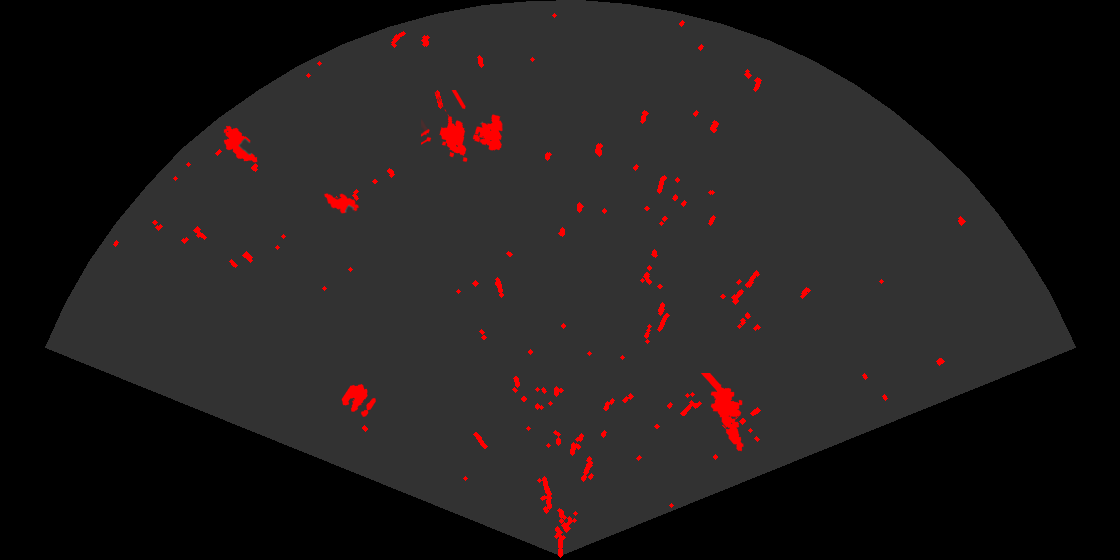AUV: (222, 124, 259, 164), (322, 191, 361, 215)
ball: (340, 382, 378, 419)
cage: (421, 90, 505, 163)
frogman: (699, 373, 745, 453)
